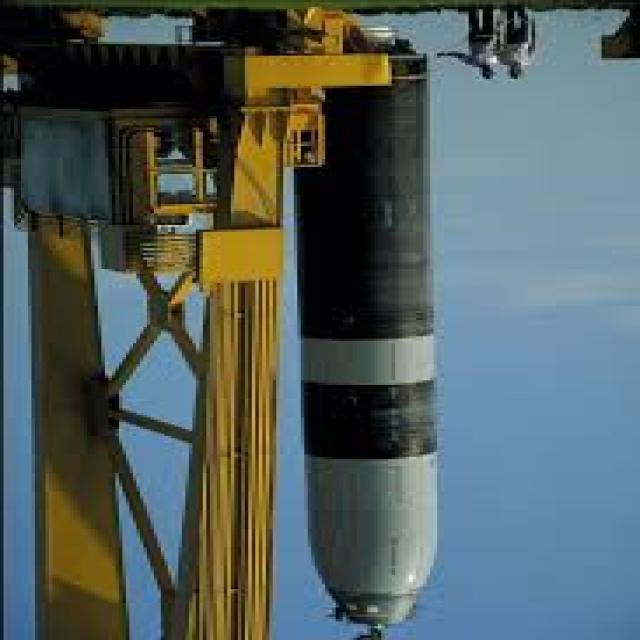Missile: (292, 71, 442, 640)
